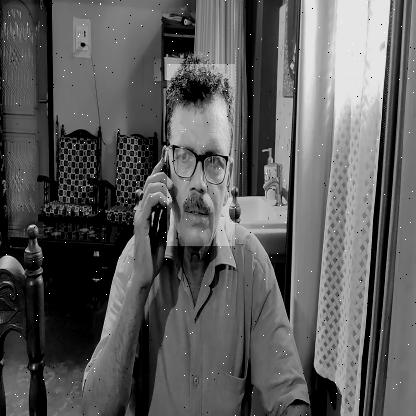Normal: (167, 64, 235, 246)
